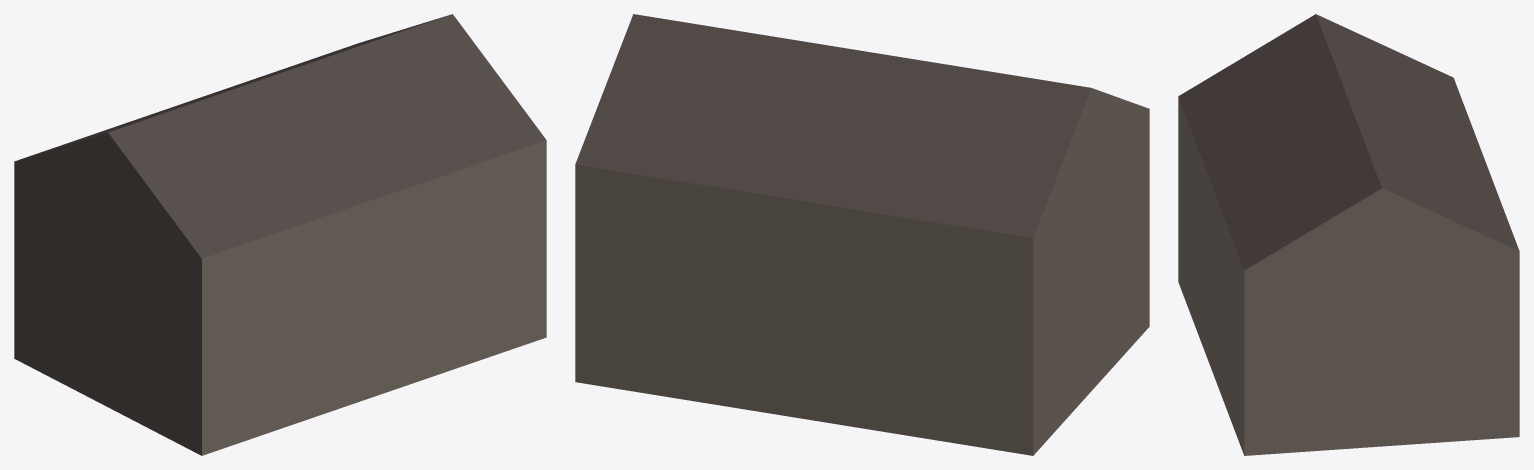
The picture shows the model from 3 angles, left to right: view 1: azimuth 30°, elevation 25°; view 2: azimuth 150°, elevation 25°; view 3: azimuth 270°, elevation 25°; orthographic projection. The views are drawn at different scales.
Visible parts, largest first — view 1: HP-w1200756565; view 2: HP-w1200756565; view 3: HP-w1200756565.
Part boxes in pixels (x1,y1,x2,y2): HP-w1200756565: (14, 14, 546, 455); HP-w1200756565: (575, 14, 1149, 455); HP-w1200756565: (1178, 14, 1519, 455).
Bounding box in the file's own units: 13.41 × 8.36 × 10.02.
